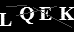E: (38, 6, 52, 21)
K: (57, 6, 74, 20)
L: (1, 11, 13, 27)
Q: (19, 6, 35, 24)
